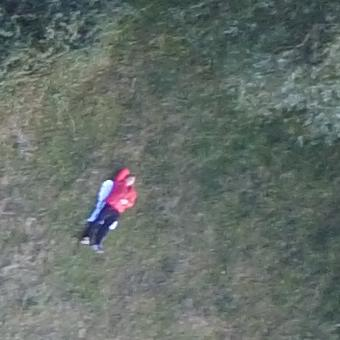human: (78, 167, 137, 252)
